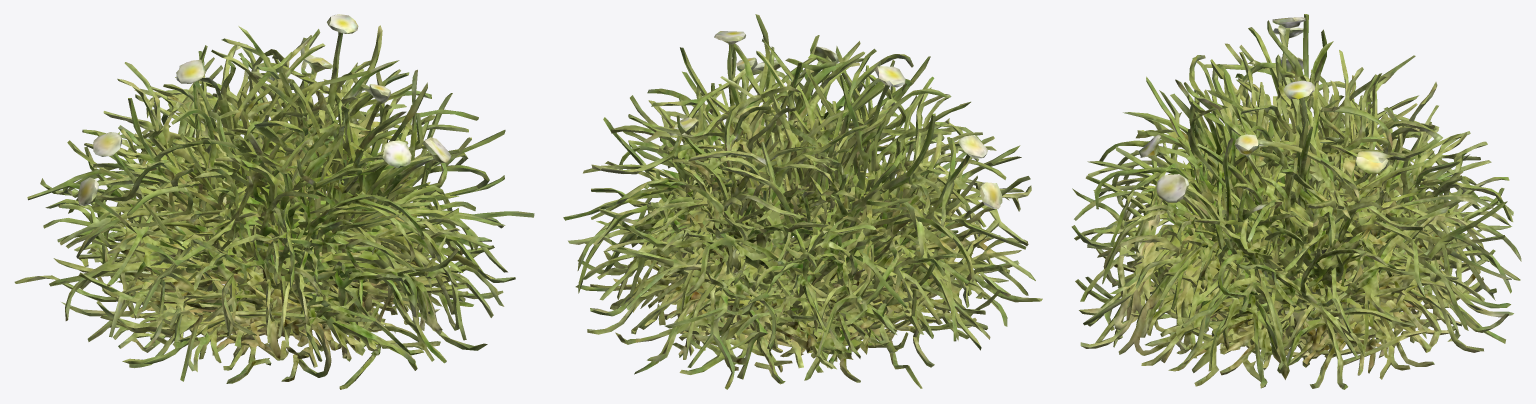
File: meadow-flower-v3-lod.glb
3 renders of one model, left to right at view 1: azimuth 30°, elevation 25°; view 2: azimuth 150°, elevation 25°; view 3: azimuth 270°, elevation 25°, orthographic. The views are drawn at different scales.
Visible parts, largest first — view 1: geometry_0; view 2: geometry_0; view 3: geometry_0.
Part boxes in pixels (<box>): geometry_0: <box>14,14,534,389</box>; geometry_0: <box>563,14,1042,389</box>; geometry_0: <box>1071,14,1521,389</box>.
Bounding box in the file's own units: 0.45 × 0.295 × 0.4442.
1 material, 1 textured.
